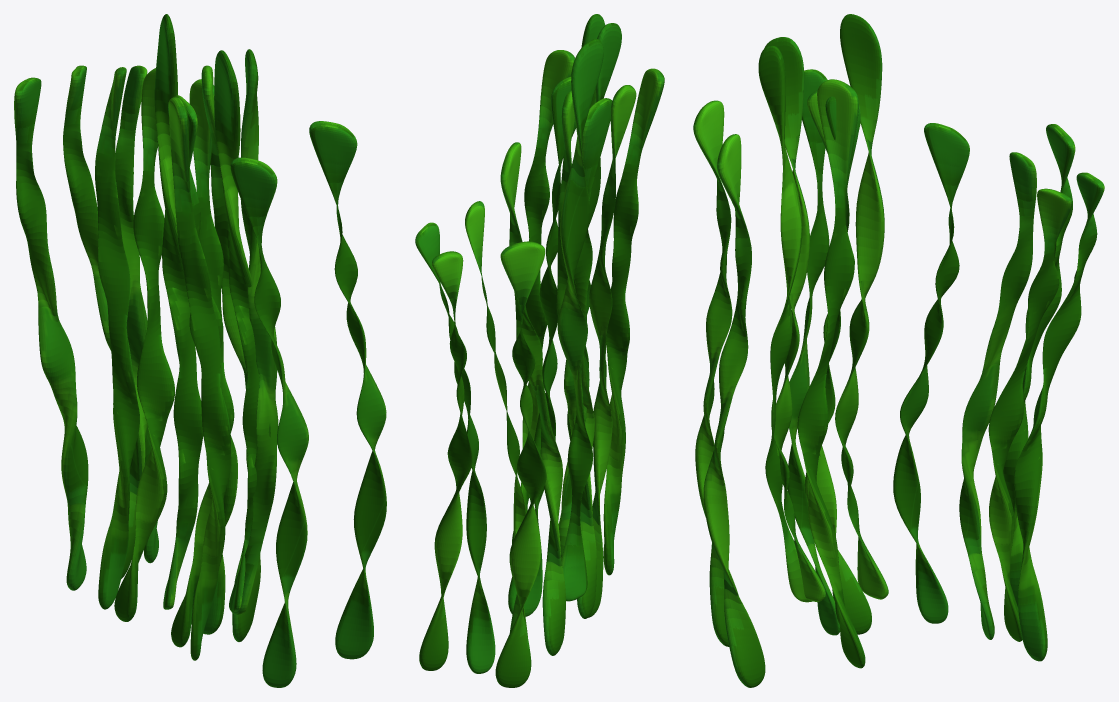
The model's file is seaweed4.glb.
3 views of the same model, side by side, from view 1: azimuth 30°, elevation 25°; view 2: azimuth 150°, elevation 25°; view 3: azimuth 270°, elevation 25° (orthographic). The views are drawn at different scales.
Parts seen in each view (by area): view 1: Plane.010; view 2: Plane.010; view 3: Plane.010.
Part boxes in pixels (x1,y1,x2,y2): Plane.010: [14, 14, 386, 687]; Plane.010: [415, 14, 664, 687]; Plane.010: [693, 14, 1104, 687].
Bounding box in the file's own units: 5.44 × 16.99 × 10.22.
Materials: 1 (1 with a texture image).
